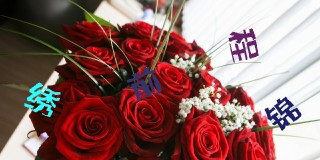前: (126, 67, 163, 100)
程: (227, 28, 260, 63)
绣: (24, 82, 60, 117)
锦: (265, 96, 303, 131)
